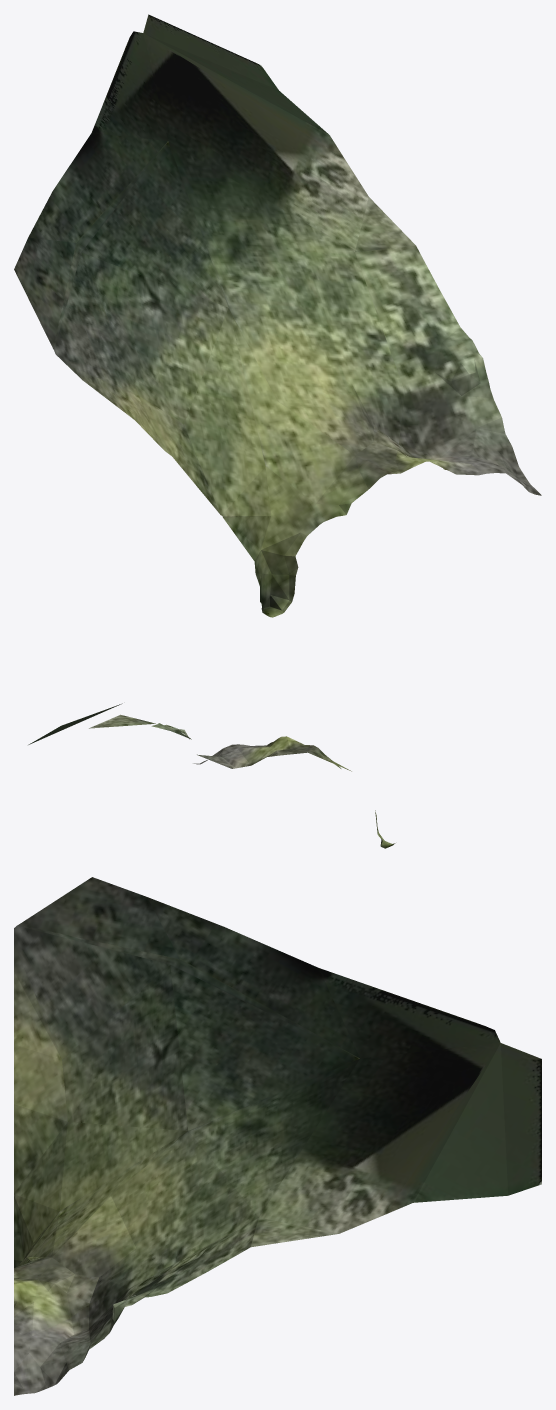
The picture shows the model from 3 angles, top to bottom: view 1: azimuth 30°, elevation 25°; view 2: azimuth 150°, elevation 25°; view 3: azimuth 270°, elevation 25°; orthographic projection. The views are drawn at different scales.
Bounding box in the file's own units: 11.8 × 8.59 × 11.8.
Materials: 3 (3 with a texture image).
